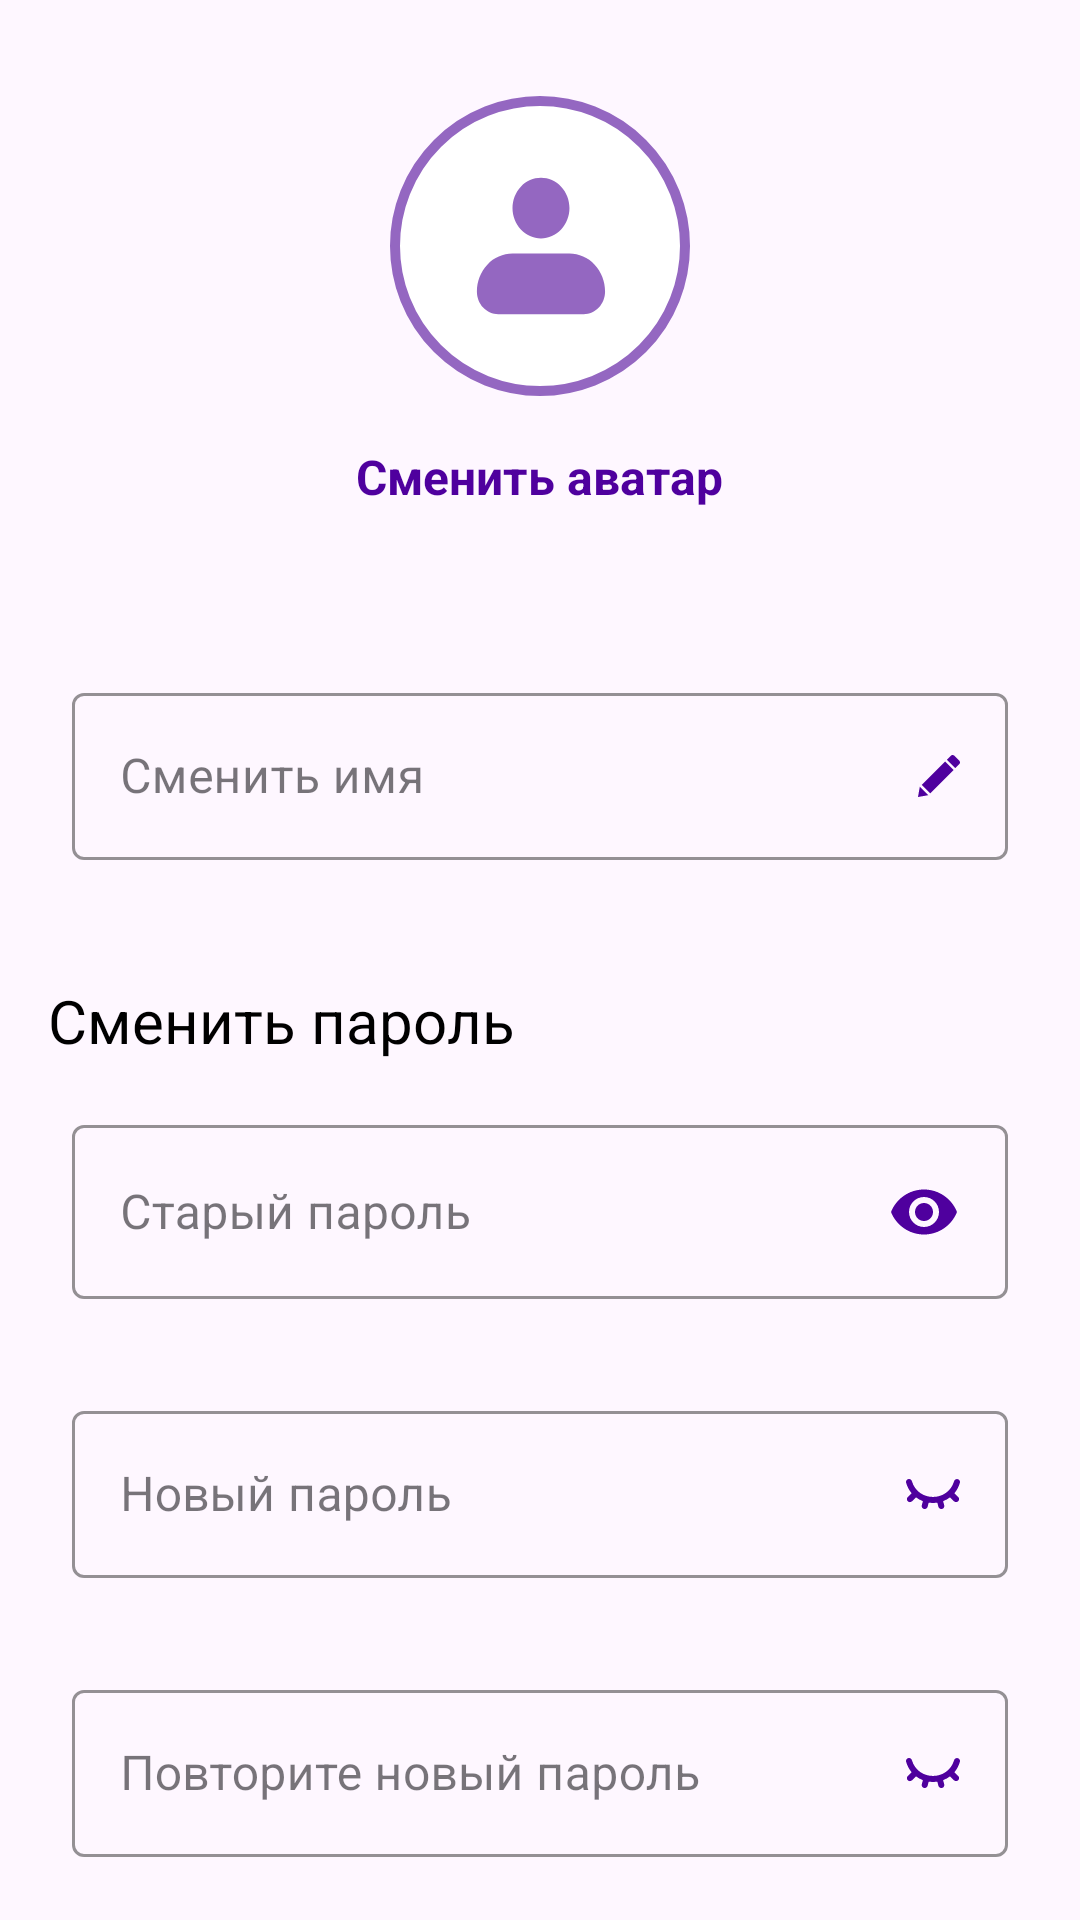

Screen size 1080px x 1920px. Icon name, then its center in pixels as (x,y):
profile plug: (540,246)
